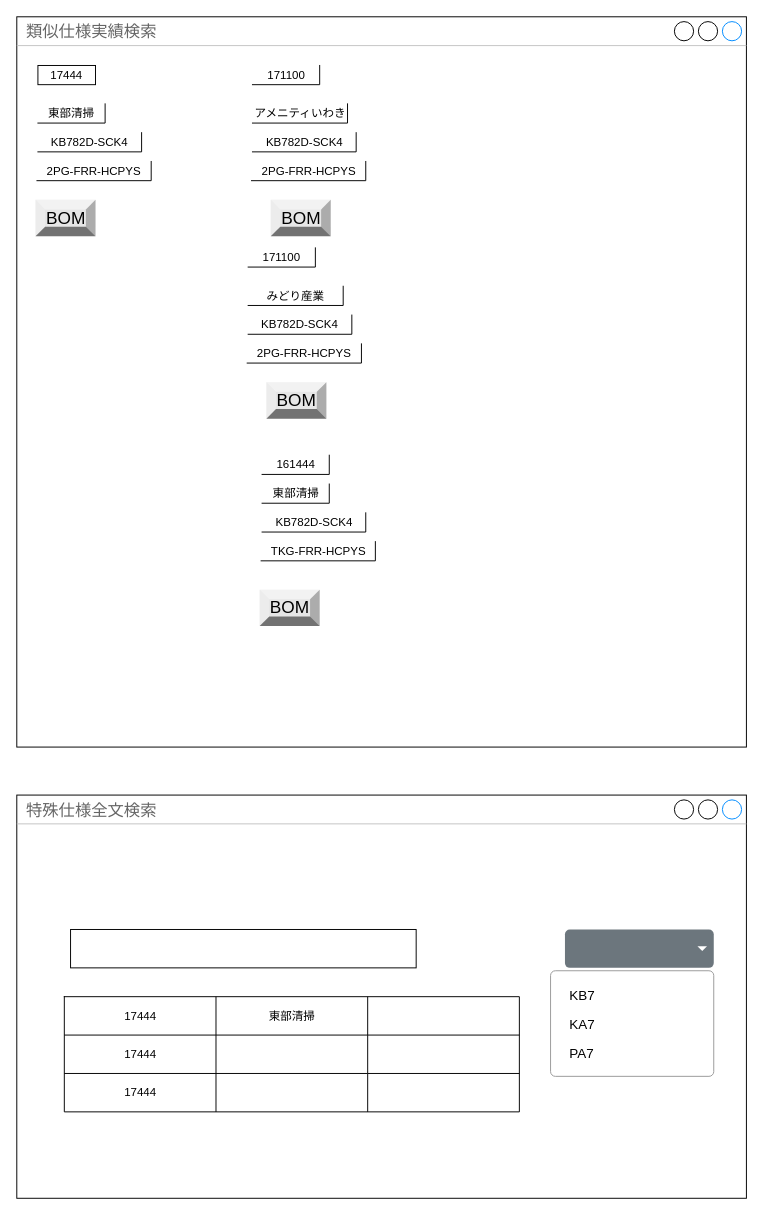
Some shapes in this 763 by 1215 pixel diagram are drawn without their labels. Each missing label, with the centre of its shape:
"ガイドテーブル 強化" goes at (243,948).
"架装型式で絞る" goes at (638,948).
